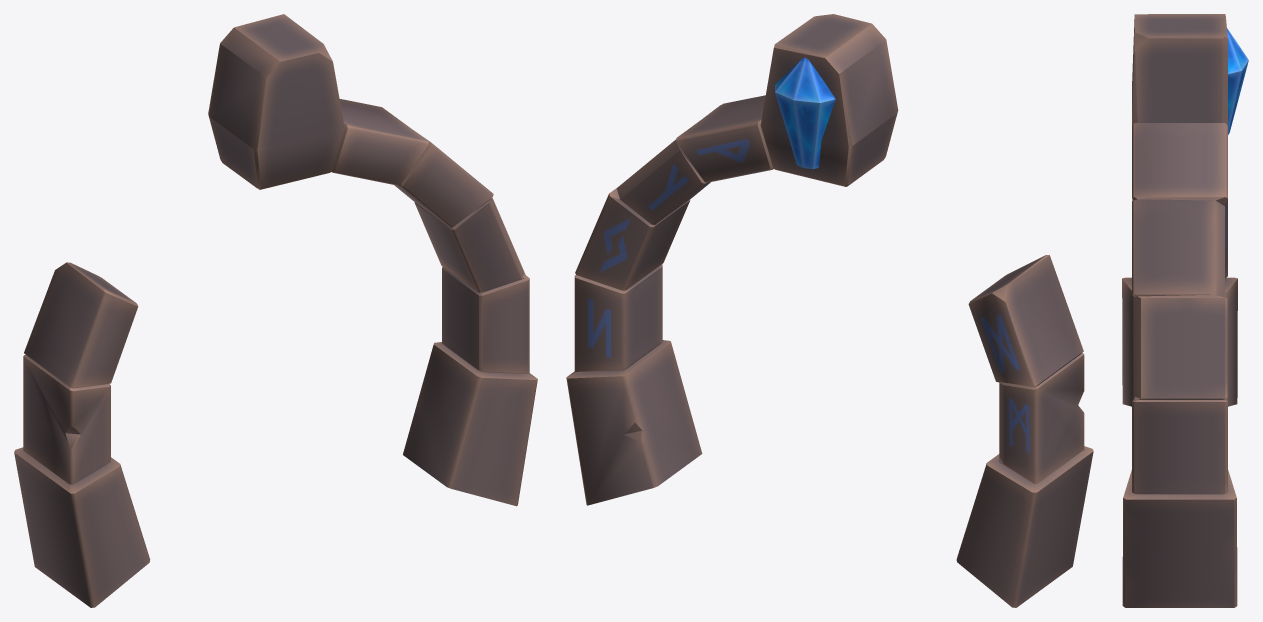
Rendered from portal.fbx.
3 renders of one model, left to right at view 1: azimuth 30°, elevation 25°; view 2: azimuth 150°, elevation 25°; view 3: azimuth 270°, elevation 25°, orthographic. The views are drawn at different scales.
Visible parts, largest first — view 1: Plane_Baked; view 2: Plane_Baked; view 3: Plane_Baked.
Part boxes in pixels (box(x1,y1,x2,y2)): Plane_Baked: box(14, 14, 537, 607); Plane_Baked: box(566, 14, 1093, 607); Plane_Baked: box(1122, 14, 1248, 607).
Size of the model in its own units: 297 by 303 by 71.79.
1 material, 1 textured.
